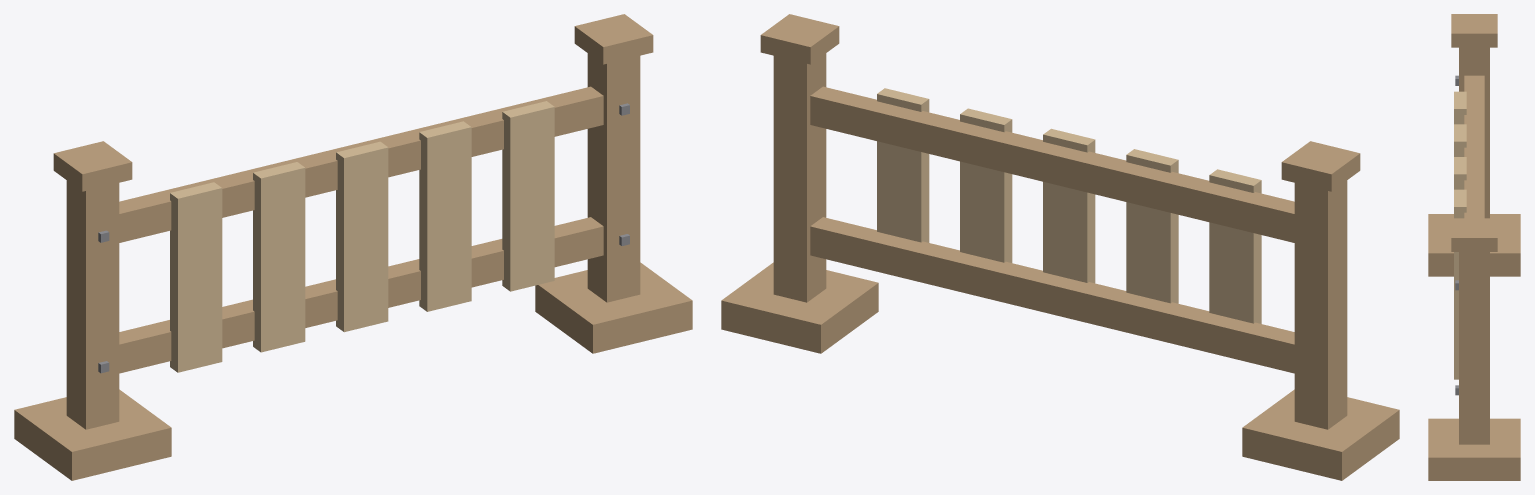
File: 40-Infraestructura_valla_madera_recto.glb
3 renders of one model, left to right at view 1: azimuth 30°, elevation 25°; view 2: azimuth 150°, elevation 25°; view 3: azimuth 270°, elevation 25°, orthographic. The views are drawn at different scales.
Parts seen in each view (by area): view 1: SM_Valla_Tablas_NOFUNDIR, SM_Valla_Basas_Postes_NOFUNDIR, SM_Valla_Travesanos_NOFUNDIR, SM_Valla_Remates_NOFUNDIR; view 2: SM_Valla_Basas_Postes_NOFUNDIR, SM_Valla_Travesanos_NOFUNDIR, SM_Valla_Tablas_NOFUNDIR, SM_Valla_Remates_NOFUNDIR; view 3: SM_Valla_Basas_Postes_NOFUNDIR, SM_Valla_Remates_NOFUNDIR, SM_Valla_Travesanos_NOFUNDIR, SM_Valla_Tablas_NOFUNDIR, SM_Valla_Clavos_NOFUNDIR.
Part boxes in pixels (left/top/right/bottom): SM_Valla_Tablas_NOFUNDIR: left=170, top=101, right=554, bottom=372; SM_Valla_Basas_Postes_NOFUNDIR: left=14, top=53, right=692, bottom=480; SM_Valla_Travesanos_NOFUNDIR: left=70, top=86, right=603, bottom=381; SM_Valla_Remates_NOFUNDIR: left=53, top=14, right=653, bottom=191; SM_Valla_Basas_Postes_NOFUNDIR: left=721, top=53, right=1399, bottom=480; SM_Valla_Travesanos_NOFUNDIR: left=810, top=86, right=1343, bottom=381; SM_Valla_Tablas_NOFUNDIR: left=877, top=88, right=1261, bottom=323; SM_Valla_Remates_NOFUNDIR: left=760, top=14, right=1360, bottom=191; SM_Valla_Basas_Postes_NOFUNDIR: left=1428, top=47, right=1520, bottom=480; SM_Valla_Remates_NOFUNDIR: left=1451, top=14, right=1497, bottom=251; SM_Valla_Travesanos_NOFUNDIR: left=1464, top=75, right=1484, bottom=407; SM_Valla_Tablas_NOFUNDIR: left=1454, top=91, right=1466, bottom=379; SM_Valla_Clavos_NOFUNDIR: left=1455, top=75, right=1458, bottom=395.
Size of the model in its own units: 2.24 by 1 by 0.36.
